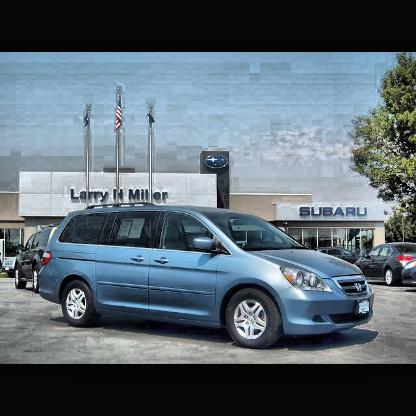Honda Odyssey Minivan 2007: (41, 203, 376, 350)
